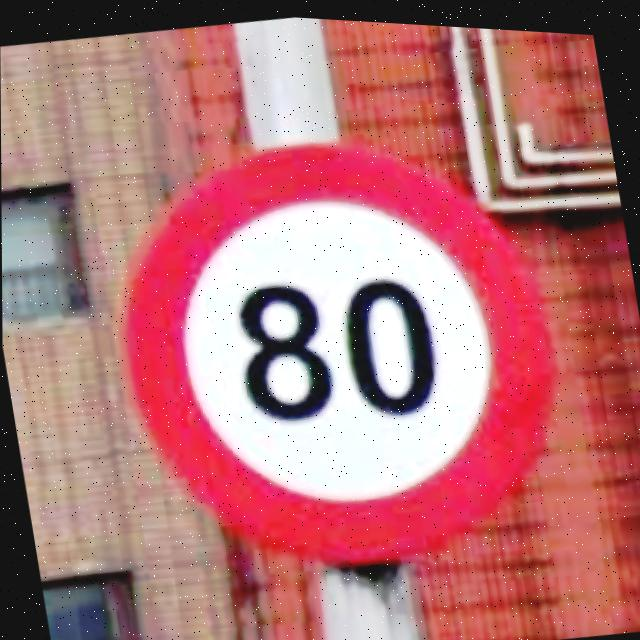max80: (83, 87, 587, 605)
